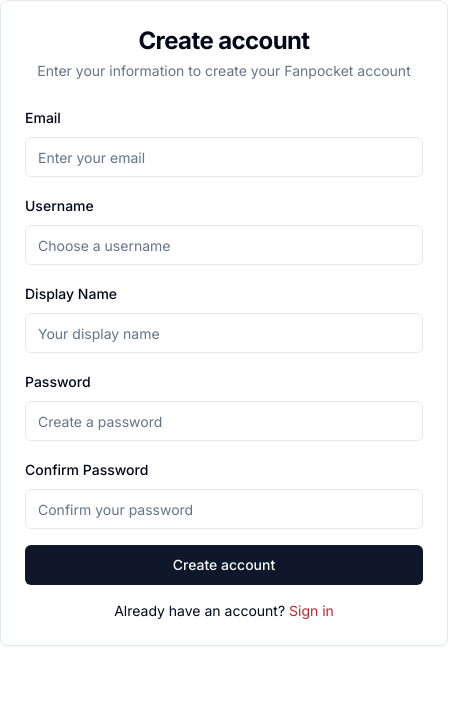
RegisterForm › shows validation errors for empty fields
Click the button "Create account".
click(224, 565)  # box 25,545 -> 423,585
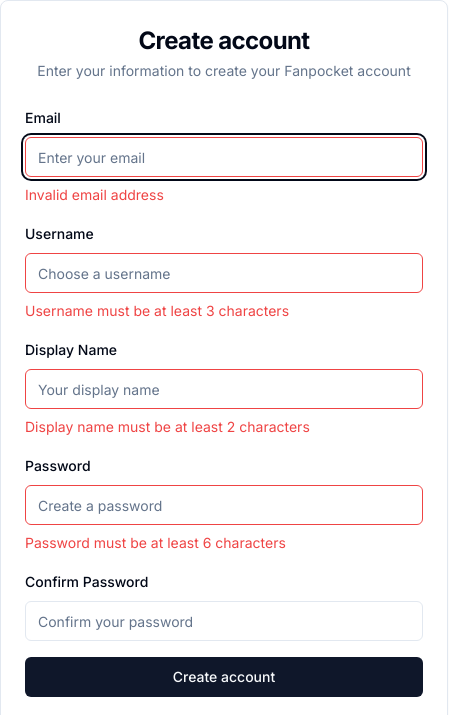
Check: the text "Invalid email address" is shown, box 25,186 -> 164,203
Check: the text "Username must be at least 3 characters" is shown, box 25,302 -> 289,319
Check: the text "Display name must be at least 2 characters" is shown, box 25,418 -> 310,435
